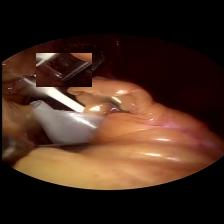Grasper: (35, 54, 91, 87)
Specimen Bag: (22, 73, 97, 145)
